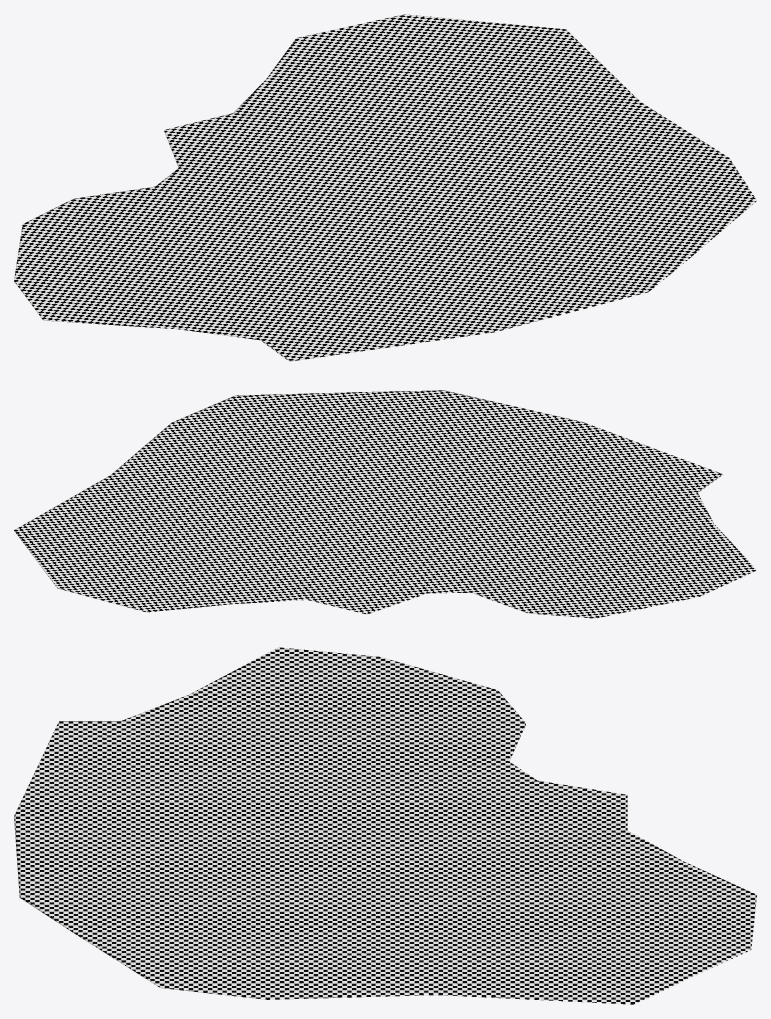
File: stbr16.dae
3 views of the same model, one above another, from view 1: azimuth 30°, elevation 25°; view 2: azimuth 150°, elevation 25°; view 3: azimuth 270°, elevation 25° (orthographic). The views are drawn at different scales.
Visible parts, largest first — view 1: base; view 2: base; view 3: base.
Part boxes in pixels (bbox=[...]): base: bbox=[14, 14, 756, 361]; base: bbox=[14, 390, 756, 618]; base: bbox=[14, 647, 756, 1004].
Size of the model in its own units: 76.92 by 67.69 by 0.05.
1 material, 1 textured.
